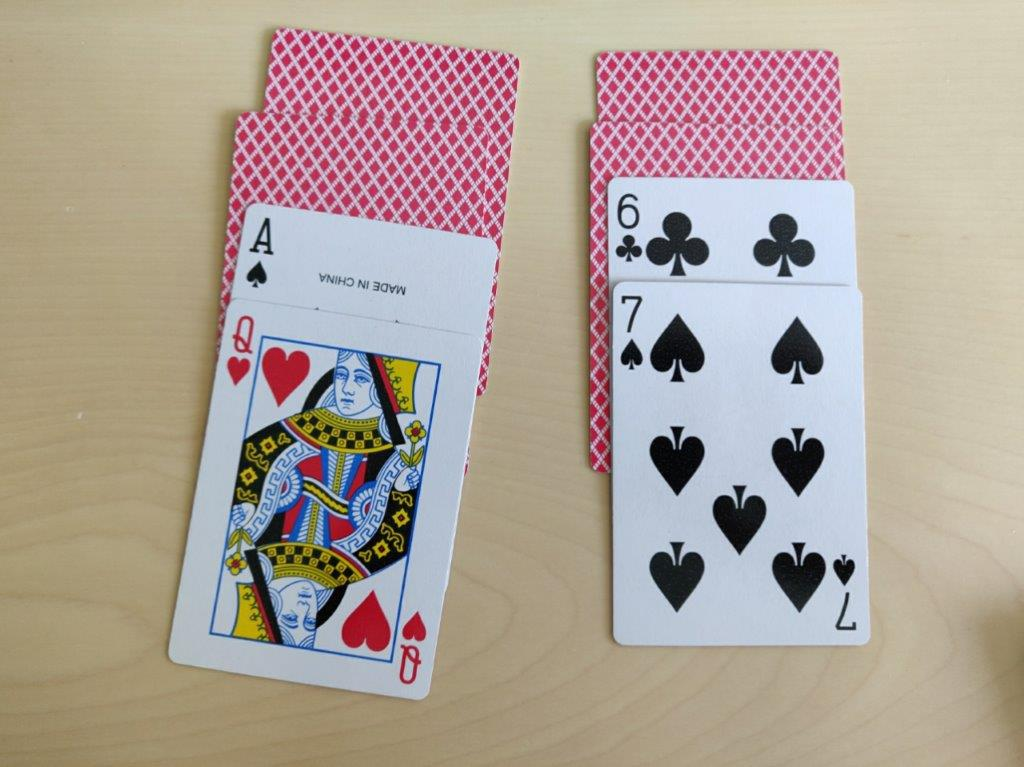6C: (614, 184, 647, 266)
7S: (617, 286, 648, 379)
AS: (246, 213, 276, 302)
BACK: (226, 113, 515, 217), (263, 25, 521, 123), (593, 48, 844, 122), (587, 121, 840, 183)
QH: (213, 312, 259, 388)
